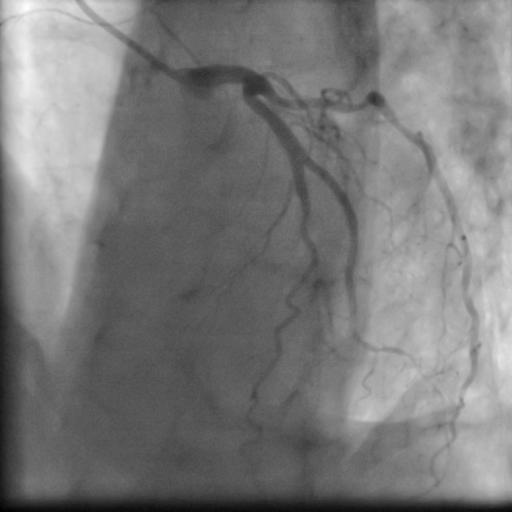Stenosis: (338, 87, 373, 118)
